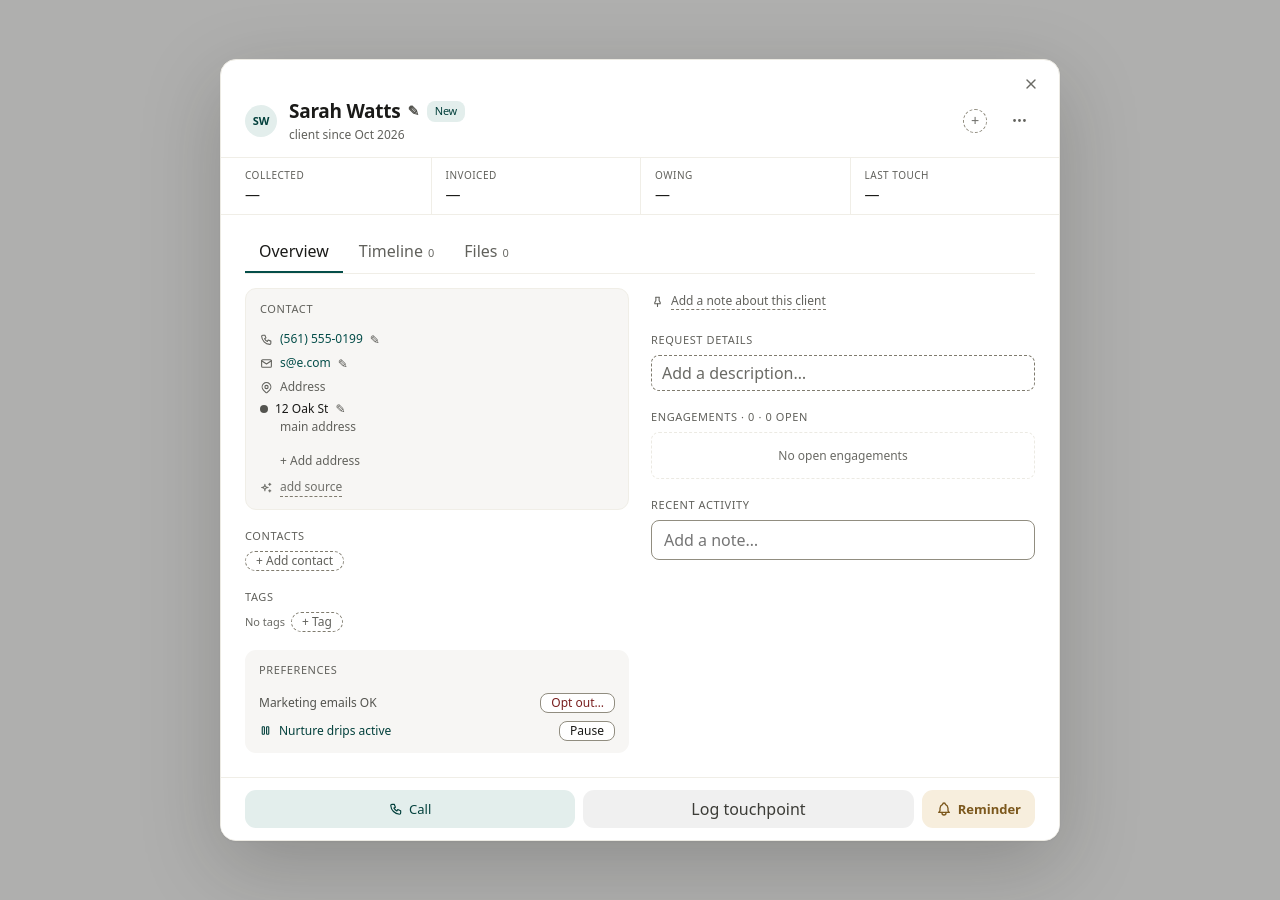
Test: Dismiss is on the client card › renders, in its approved group, with its description
The image size is (1280, 900).
Click the button named "More".
click(1019, 121)  # box 1003,105 -> 1035,137
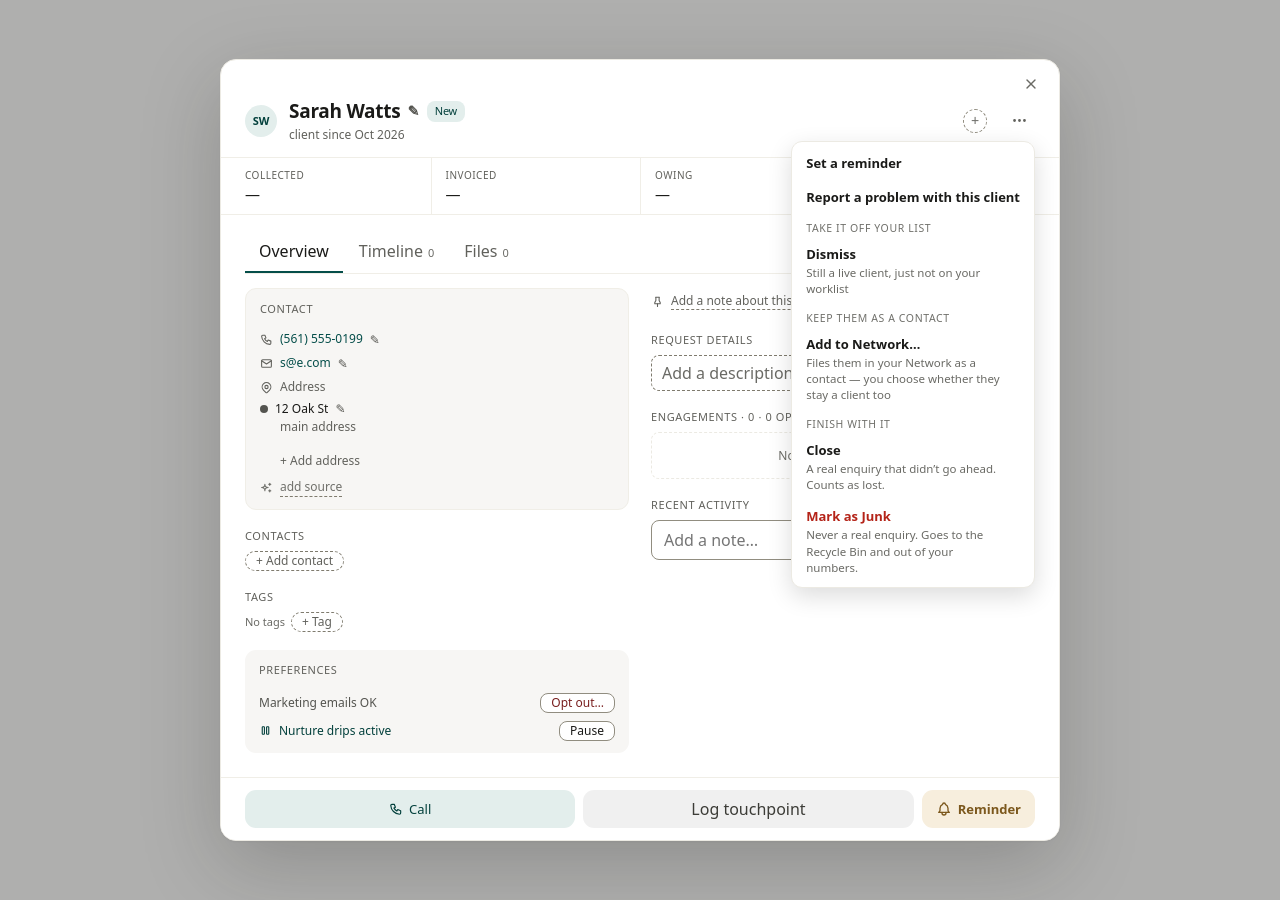
Now the text "Dismiss" is shown, box 806,245 -> 856,263
Now the text "Take it off your list" is shown, box 806,221 -> 931,235
